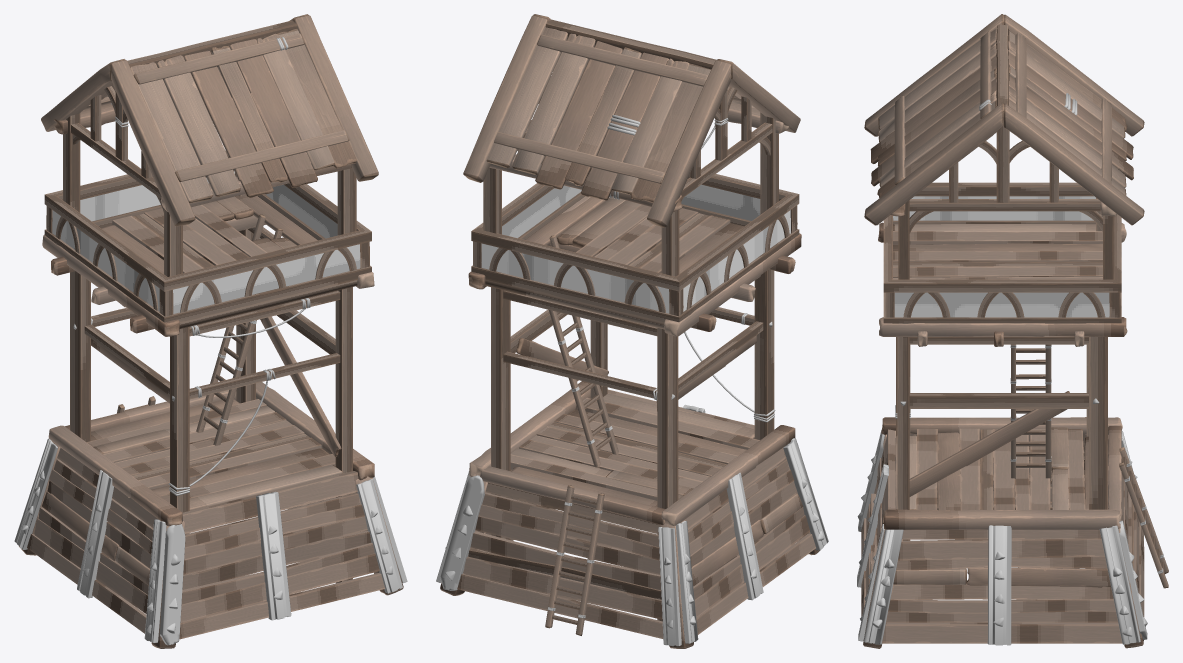
The model's file is SM_Watchtower_01.fbx.
3 renders of one model, left to right at view 1: azimuth 30°, elevation 25°; view 2: azimuth 150°, elevation 25°; view 3: azimuth 270°, elevation 25°, orthographic.
Visible parts, largest first — view 1: SM_Watchtower_01_LOD0; view 2: SM_Watchtower_01_LOD0; view 3: SM_Watchtower_01_LOD0.
Boxes of the visible parts, x1,y1,x2,y2 form: SM_Watchtower_01_LOD0: [14, 14, 407, 648]; SM_Watchtower_01_LOD0: [436, 14, 828, 648]; SM_Watchtower_01_LOD0: [857, 14, 1168, 648].
Bounding box in the file's own units: 789 × 837 × 1573.
